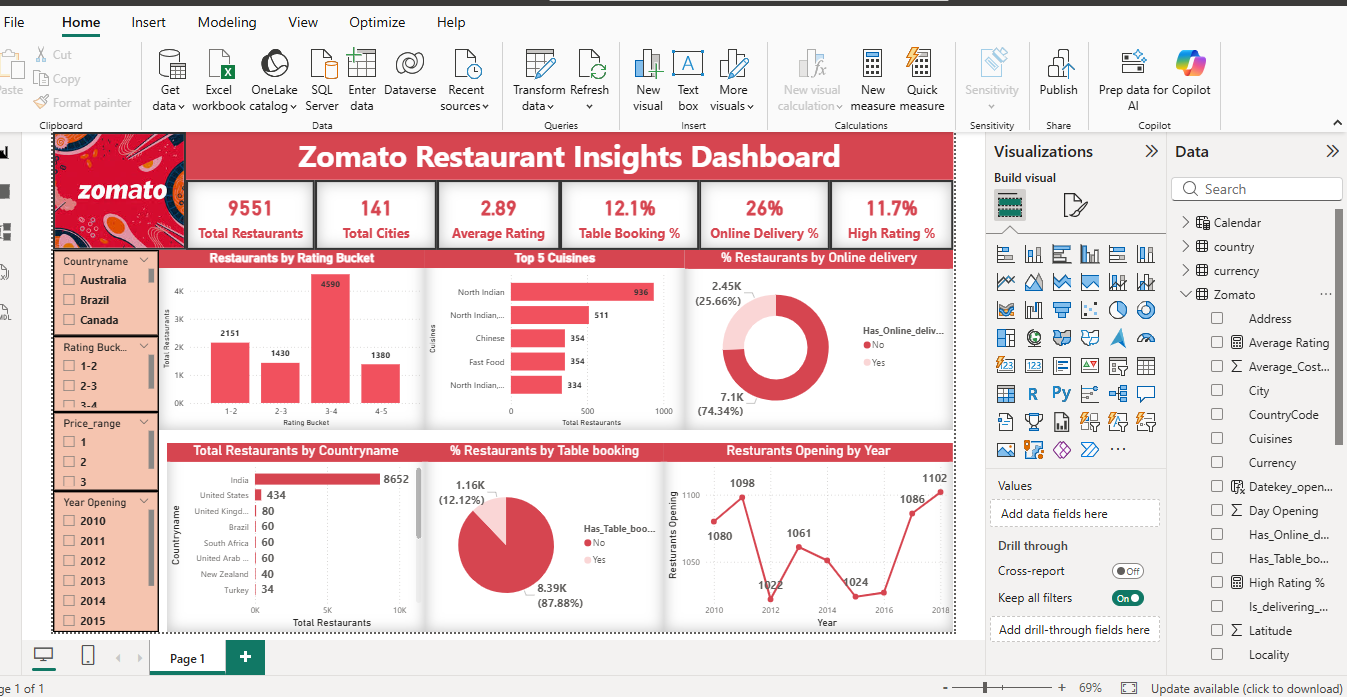

Layout of this report page (visuals, bound fields, positions):
{"tool":"powerbi","page":{"name":"Page 1","canvas":[1300,722],"ordinal":0},"visuals":[{"type":"barChart","fields":{"Category":["country.Countryname"],"Y":["Zomato.Total Restaurants"]},"box":[164.6,449.1,372.6,272.9],"z":0},{"type":"lineChart","fields":{"Category":["Calendar.Year Hierarchy.Year","Calendar.Year Hierarchy.Quarter","Calendar.Year Hierarchy.Monthno"],"Y":["Calendar.Resturants Opening"]},"box":[882.3,449.1,417.3,272.9],"z":1000},{"type":"columnChart","title":"Restaurants by Rating Bucket","fields":{"Y":["Zomato.Total Restaurants"],"Category":["Zomato.Rating Bucket"]},"box":[153.1,170.4,384.1,259.9],"z":2000},{"type":"textbox","box":[192.1,0,1107.5,69.3],"z":3000},{"type":"image","box":[0,0,191.5,169.9],"z":4000},{"type":"barChart","title":"Top 5 Cuisines","fields":{"Category":["Zomato.Cuisines"],"Y":["Zomato.Total Restaurants"]},"box":[537.2,170.4,375.4,259.9],"z":5000},{"type":"pieChart","title":"% Restaurants by Table booking","fields":{"Category":["Zomato.Has_Table_booking"],"Y":["CountNonNull(Zomato.RestaurantID)"]},"box":[537.2,449.1,345.1,272.9],"z":6000},{"type":"donutChart","title":"% Restaurants by Online delivery","fields":{"Category":["Zomato.Has_Online_delivery"],"Y":["CountNonNull(Zomato.RestaurantID)"]},"box":[912.6,170.4,387,259.9],"z":7000},{"type":"slicer","fields":{"Values":["country.Countryname"]},"box":[0,170.4,153.1,124.2],"z":8000},{"type":"card","fields":{"Values":["Zomato.Total Restaurants"]},"box":[192.1,69.3,186.3,101.1],"z":9000},{"type":"card","fields":{"Values":["Zomato.Online Delivery %"]},"box":[932.8,69.3,189.2,101.1],"z":10000},{"type":"card","fields":{"Values":["Zomato.Total Cities"]},"box":[378.3,69.3,176.2,101.1],"z":11000},{"type":"card","fields":{"Values":["Zomato.Average Rating"]},"box":[554.5,69.3,177.6,101.1],"z":12000},{"type":"card","fields":{"Values":["Zomato.Table Booking %"]},"box":[732.1,69.3,200.7,101.1],"z":13000},{"type":"slicer","fields":{"Values":["Zomato.Year Opening"]},"box":[0,518.4,153.1,203.6],"z":14000},{"type":"slicer","fields":{"Values":["Zomato.Rating Bucket"]},"box":[0,294.6,153.1,109.7],"z":15000},{"type":"slicer","fields":{"Values":["Zomato.Price_range"]},"box":[0,404.3,153.1,114.1],"z":16000},{"type":"card","fields":{"Values":["Zomato.High Rating %"]},"box":[1122,69.3,177.6,101.1],"z":16001}]}

Visuals, with their boxes on the page's 1300x722 design canvas (x1, y1, x2, y2). These are canvas units, not pixel positions in the 1347x697 screenshot, which may show the page scaled, cropped or inside an application window:
barChart - country.Countryname x Zomato.Total Restaurants: x1=165, y1=449, x2=537, y2=722
lineChart - Calendar.Year Hierarchy.Year x Calendar.Year Hierarchy.Quarter: x1=882, y1=449, x2=1300, y2=722
"Restaurants by Rating Bucket" columnChart: x1=153, y1=170, x2=537, y2=430
textbox: x1=192, y1=0, x2=1300, y2=69
image: x1=0, y1=0, x2=192, y2=170
"Top 5 Cuisines" barChart: x1=537, y1=170, x2=913, y2=430
"% Restaurants by Table booking" pieChart: x1=537, y1=449, x2=882, y2=722
"% Restaurants by Online delivery" donutChart: x1=913, y1=170, x2=1300, y2=430
slicer - country.Countryname: x1=0, y1=170, x2=153, y2=295
card - Zomato.Total Restaurants: x1=192, y1=69, x2=378, y2=170
card - Zomato.Online Delivery %: x1=933, y1=69, x2=1122, y2=170
card - Zomato.Total Cities: x1=378, y1=69, x2=554, y2=170
card - Zomato.Average Rating: x1=554, y1=69, x2=732, y2=170
card - Zomato.Table Booking %: x1=732, y1=69, x2=933, y2=170
slicer - Zomato.Year Opening: x1=0, y1=518, x2=153, y2=722
slicer - Zomato.Rating Bucket: x1=0, y1=295, x2=153, y2=404
slicer - Zomato.Price_range: x1=0, y1=404, x2=153, y2=518
card - Zomato.High Rating %: x1=1122, y1=69, x2=1300, y2=170
